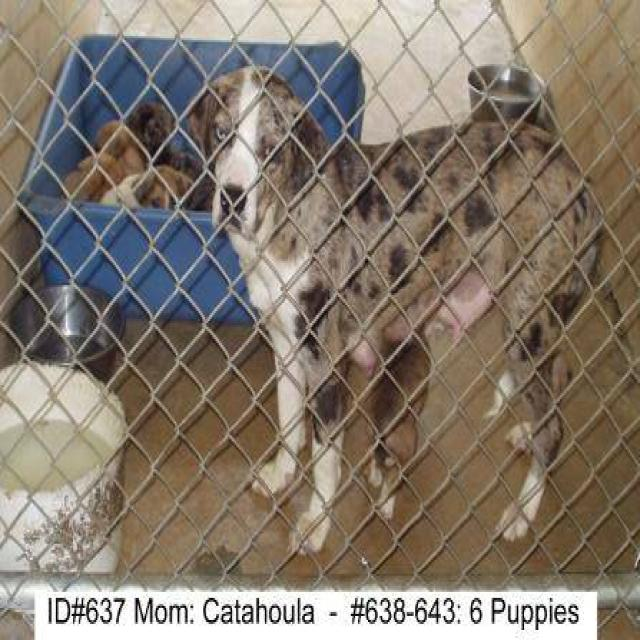sad: (194, 52, 603, 566)
